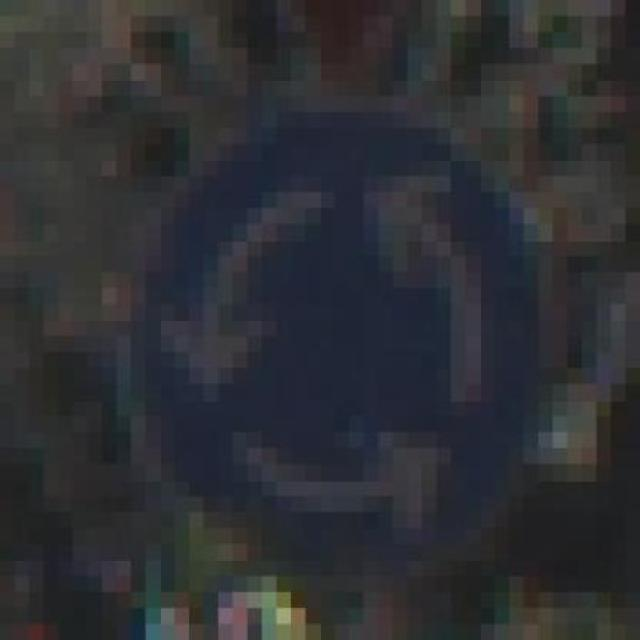Round-About: (116, 80, 567, 592)
